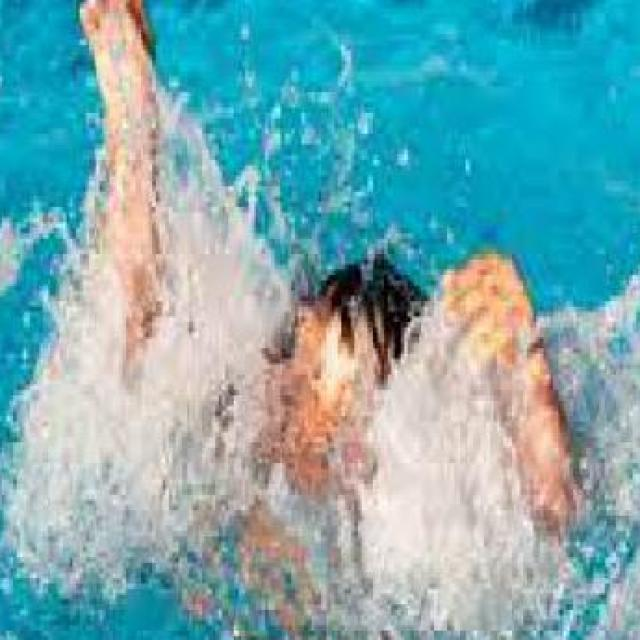Drowning: (36, 0, 589, 607)
